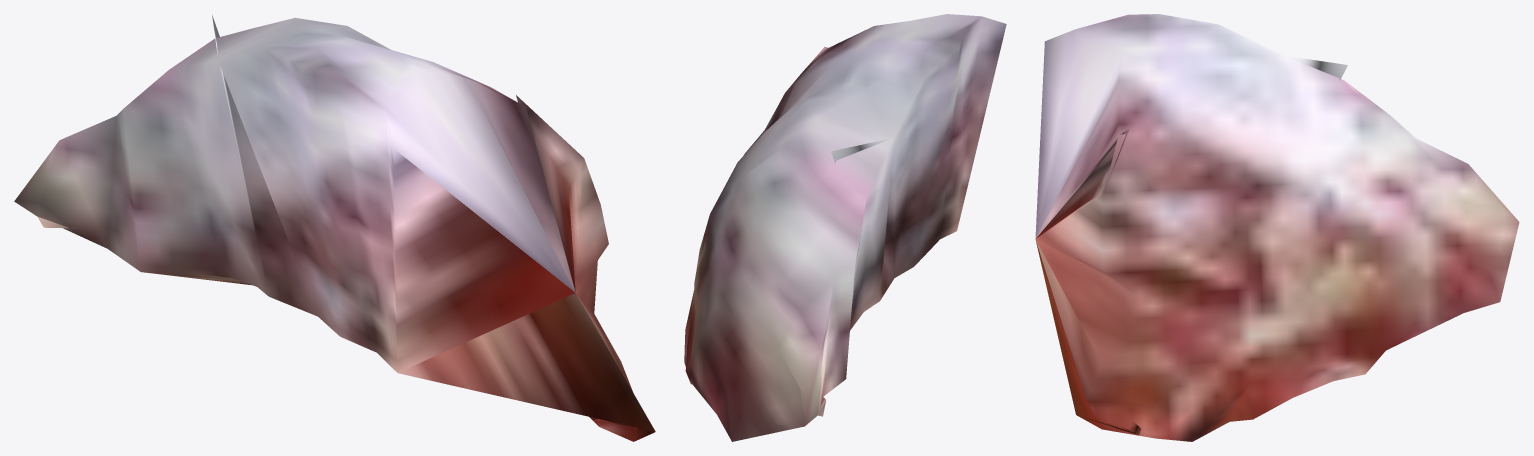
The model's file is meatchunk.glb.
3 renders of one model, left to right at view 1: azimuth 30°, elevation 25°; view 2: azimuth 150°, elevation 25°; view 3: azimuth 270°, elevation 25°, orthographic. The views are drawn at different scales.
Parts seen in each view (by area): view 1: sheep; view 2: sheep; view 3: sheep.
Part boxes in pixels (bbox=[...]): sheep: bbox=[14, 15, 655, 441]; sheep: bbox=[684, 14, 1006, 441]; sheep: bbox=[1035, 14, 1519, 441].
Bounding box in the file's own units: 6.54 × 7.8 × 10.59.
Materials: 1 (1 with a texture image).
